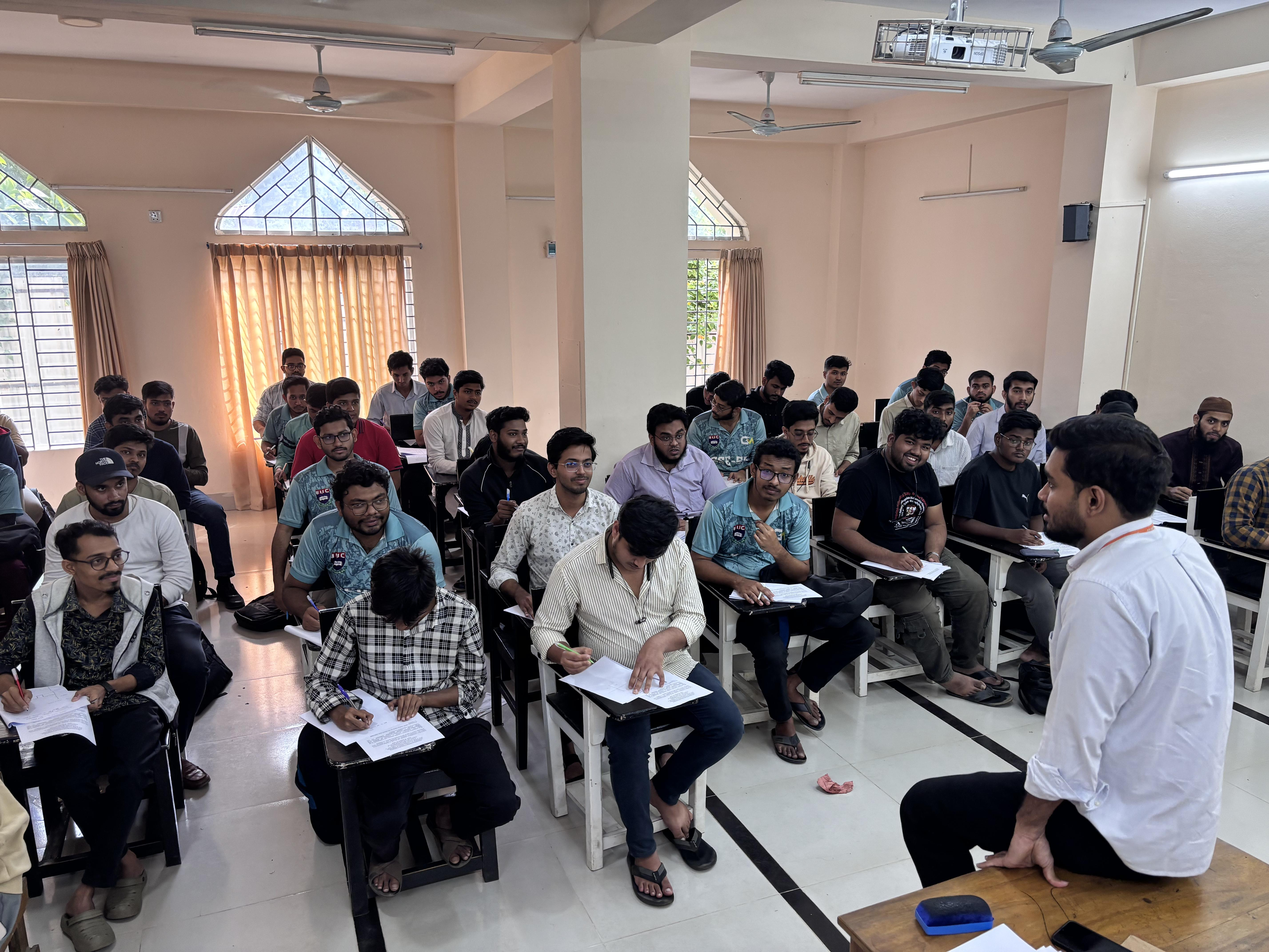copying: (700, 379, 759, 449)
invigilator: (1026, 413, 1225, 908)
no_cheating: (323, 552, 481, 790), (560, 492, 716, 726), (7, 521, 146, 772), (846, 407, 958, 603), (716, 436, 826, 622), (312, 467, 431, 566), (978, 411, 1051, 563), (535, 423, 609, 567), (457, 403, 550, 508), (627, 393, 705, 506), (1175, 392, 1242, 502), (63, 451, 143, 527), (432, 367, 489, 470), (372, 346, 423, 424), (107, 419, 163, 481), (776, 396, 828, 461), (308, 406, 364, 466), (991, 369, 1055, 419), (918, 384, 966, 443), (816, 384, 864, 441), (138, 378, 188, 432), (321, 377, 378, 424), (755, 357, 799, 416), (959, 367, 1002, 418), (818, 350, 862, 390), (279, 373, 312, 426), (272, 344, 315, 381)
suspicious_moving: (414, 357, 457, 408)
